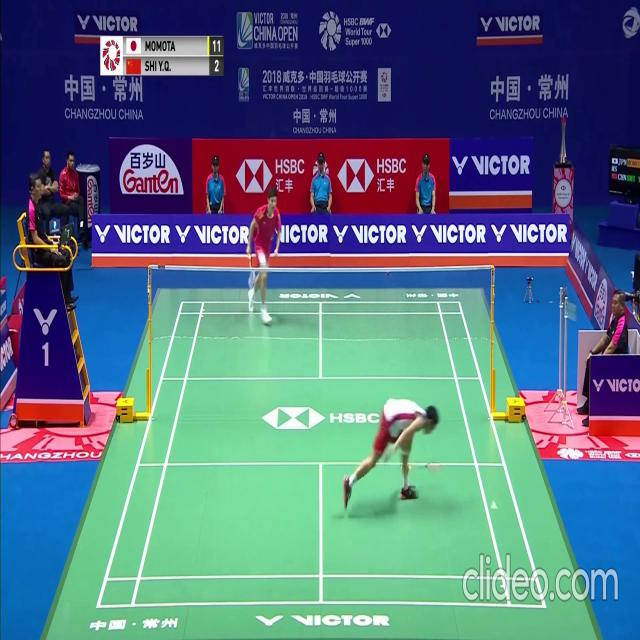Shuttlecock: (495, 505, 499, 513)
